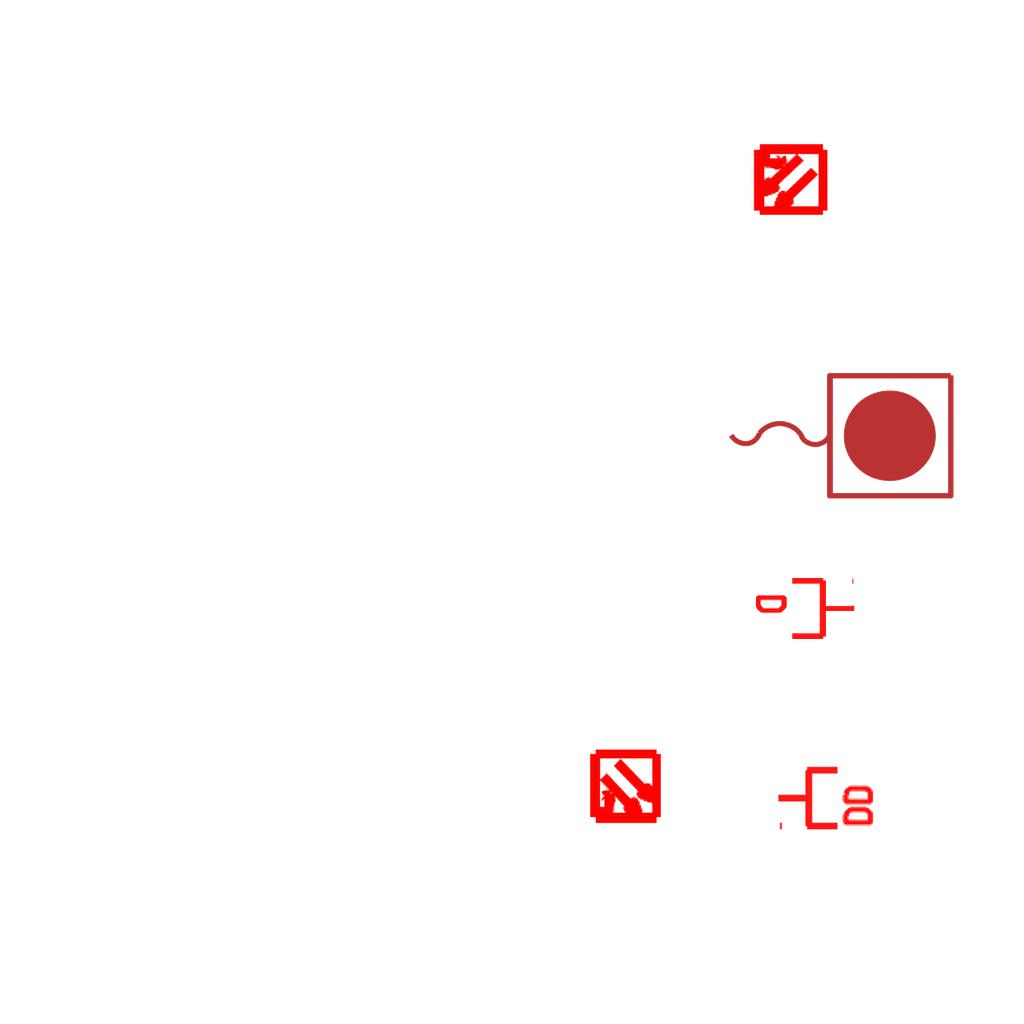Datenanschluss_einfach: (756, 574, 856, 643)
Datenanschluss_zweifach: (775, 762, 878, 831)
OT_Multisensormelder_(Kombination_RMO_WMD): (569, 732, 682, 845), (732, 123, 845, 236)
Zugtaster: (718, 362, 962, 506)
